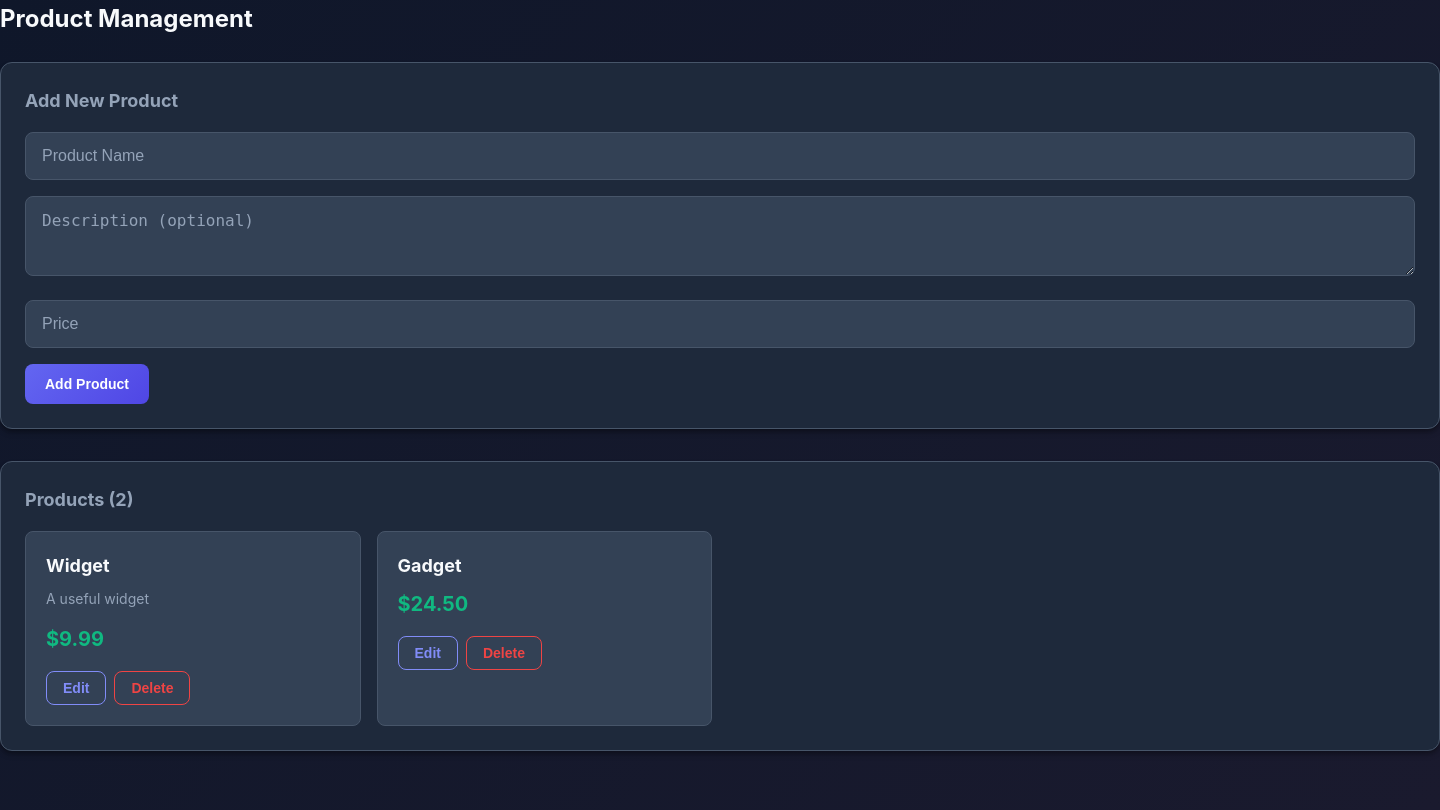
it: ProductList › shows error when delete fails
The image size is (1440, 810).
Expected: the heading "Widget" is shown, [46,555,110,576]
Click the button "Delete" below "9.99": (152, 688) [114,671,190,705]
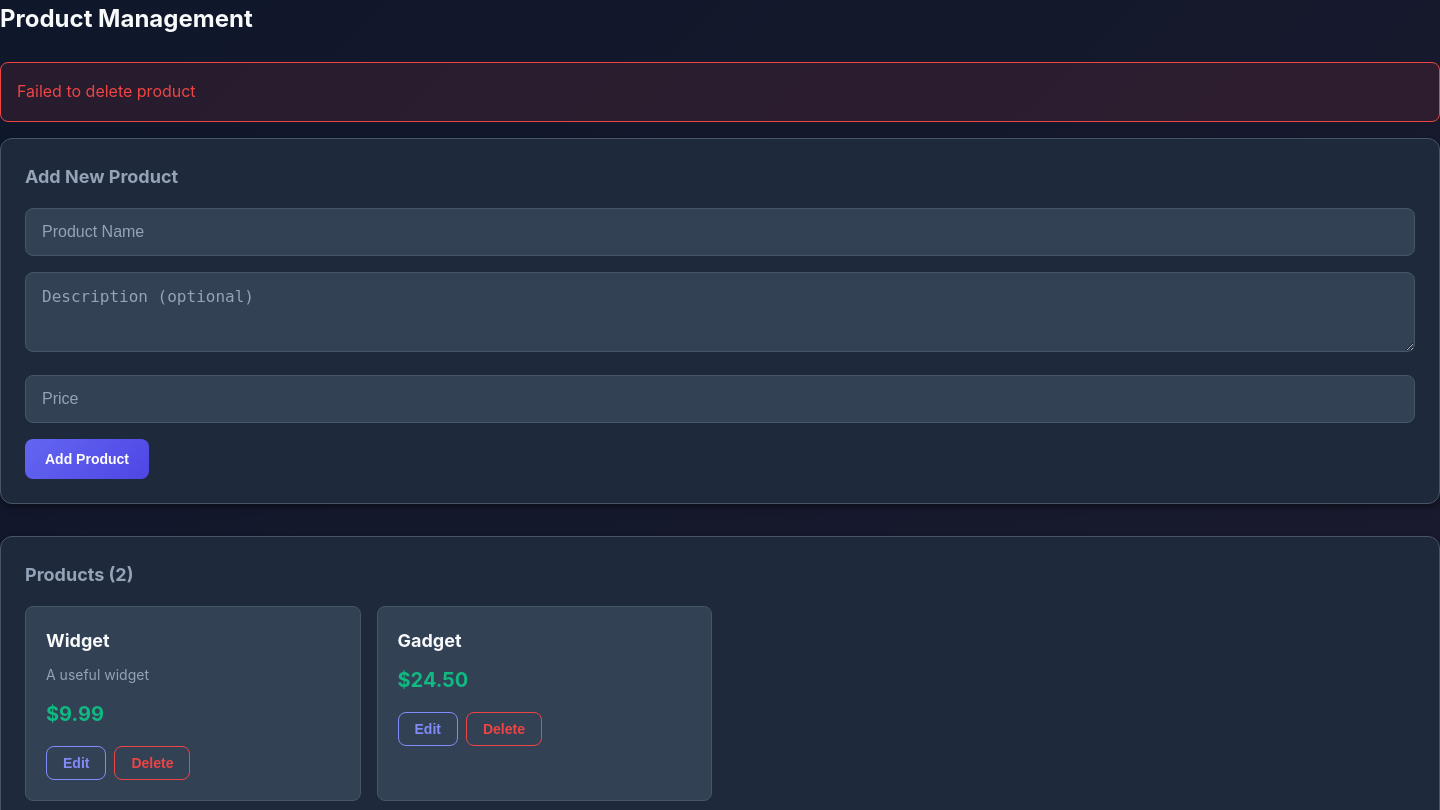
Expected: the text "Failed to delete product" is shown, [0,62,1439,122]
